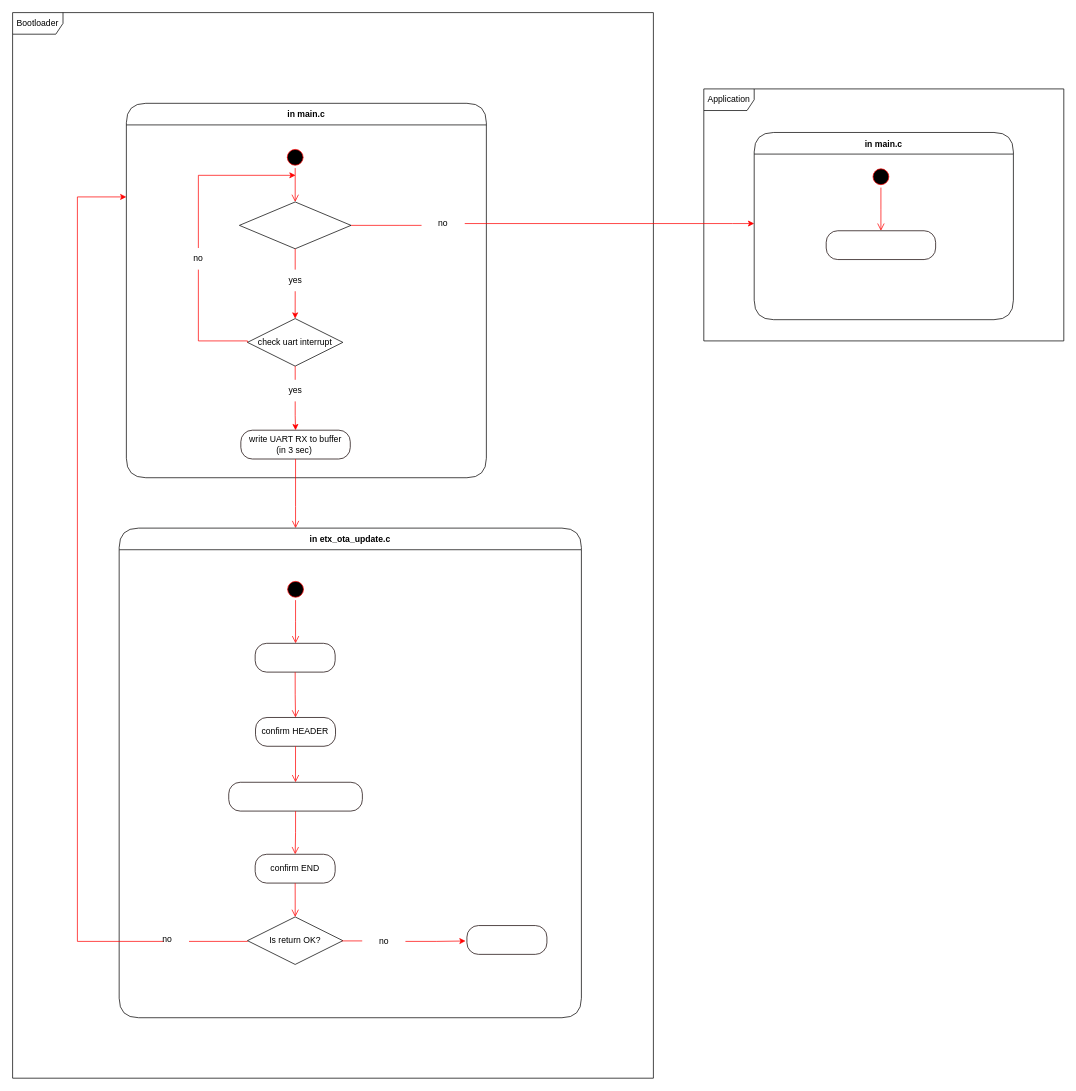
Image size: 1076x1091. Some labels were removed from this diagram. Here are the shapes that lost their labels. From the top down, the centre of each, then its label:
At [295,225]: "check pin interrupt (in 3 sec)".
At [880,245]: "start application".
At [294,657]: "confirm START".
At [295,796]: "confirm DATA (.bin file write to Flash memory)".
At [506,939]: "ERROR".
